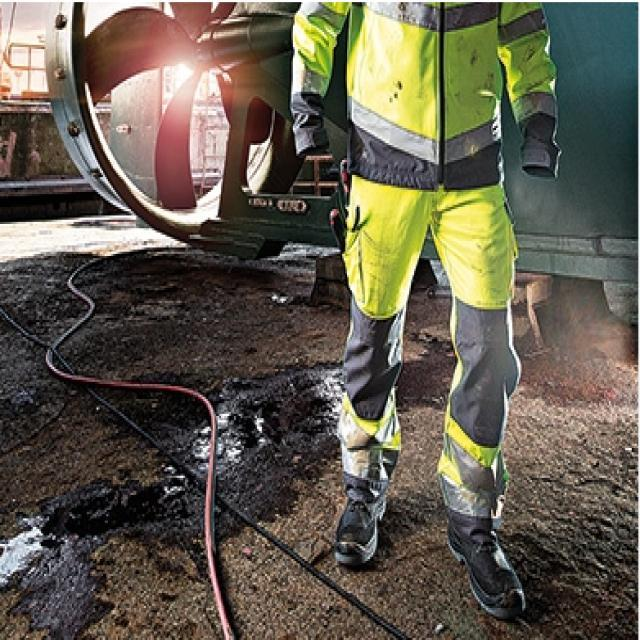boots: (335, 459, 534, 631)
